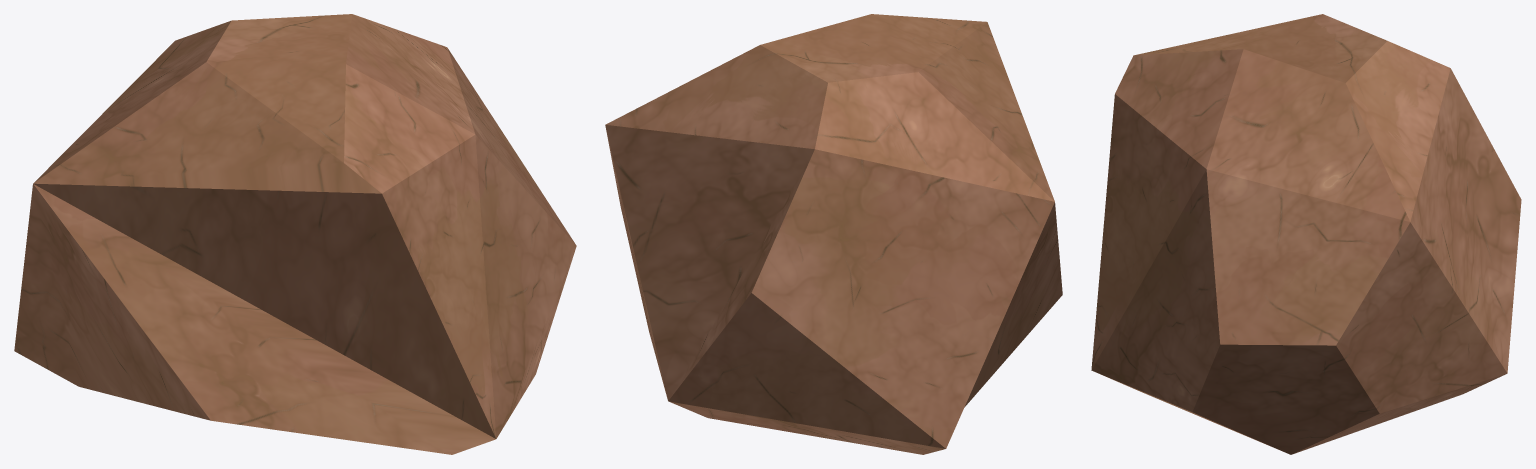
Rendered from StoneThrow.fbx.
3 views of the same model, side by side, from view 1: azimuth 30°, elevation 25°; view 2: azimuth 150°, elevation 25°; view 3: azimuth 270°, elevation 25° (orthographic). The views are drawn at different scales.
Visible parts, largest first — view 1: StoneThrower; view 2: StoneThrower; view 3: StoneThrower.
Boxes of the visible parts, box(x1,y1,x2,y2) form: StoneThrower: box(14, 14, 576, 454); StoneThrower: box(605, 14, 1062, 454); StoneThrower: box(1091, 14, 1521, 454).
Bounding box in the file's own units: 1423 × 1122 × 1249.
Materials: 1 (1 with a texture image).
